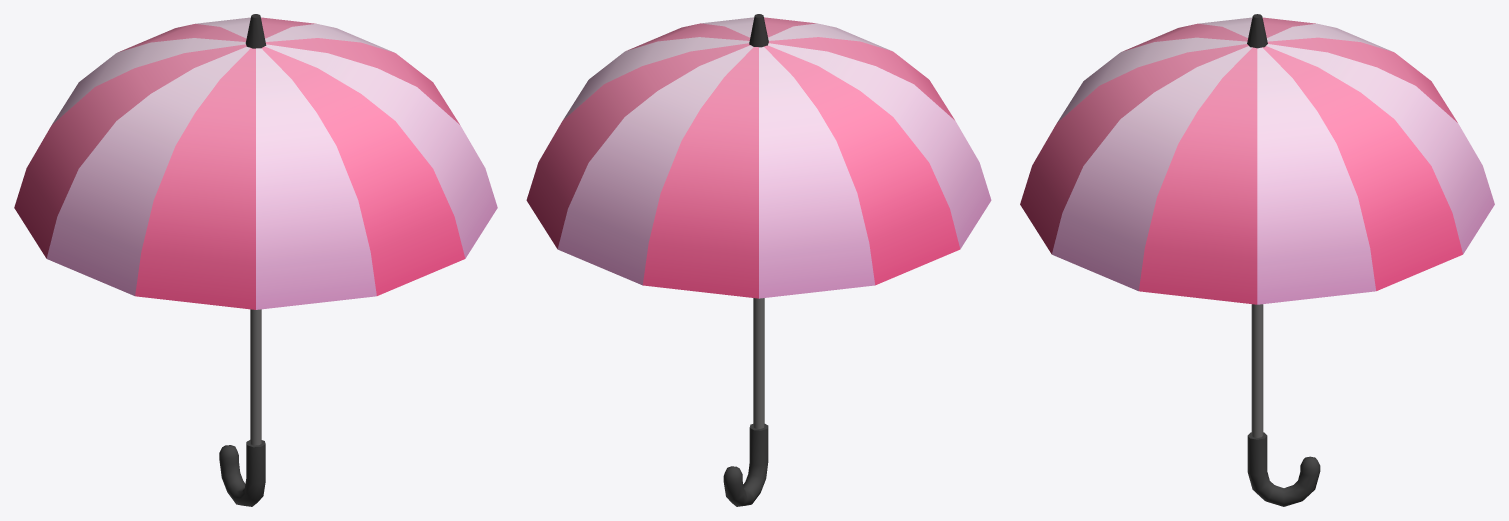
File: Umbrella_01.fbx
The picture shows the model from 3 angles, left to right: view 1: azimuth 30°, elevation 25°; view 2: azimuth 150°, elevation 25°; view 3: azimuth 270°, elevation 25°; orthographic projection. The views are drawn at different scales.
Visible parts, largest first — view 1: Umbrella_01; view 2: Umbrella_01; view 3: Umbrella_01.
Part boxes in pixels (x1,y1,x2,y2): Umbrella_01: [14, 14, 497, 506]; Umbrella_01: [526, 14, 991, 506]; Umbrella_01: [1020, 14, 1494, 506].
Size of the model in its own units: 104 by 104 by 119.
